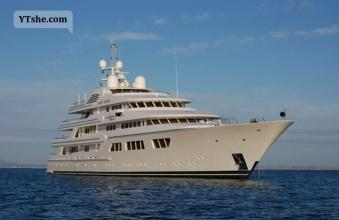yacht: (43, 56, 293, 174)
